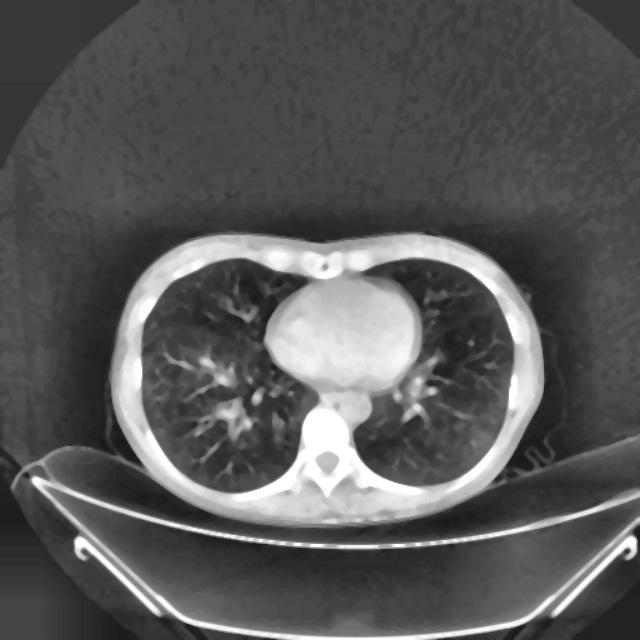covid: (108, 229, 545, 528)
